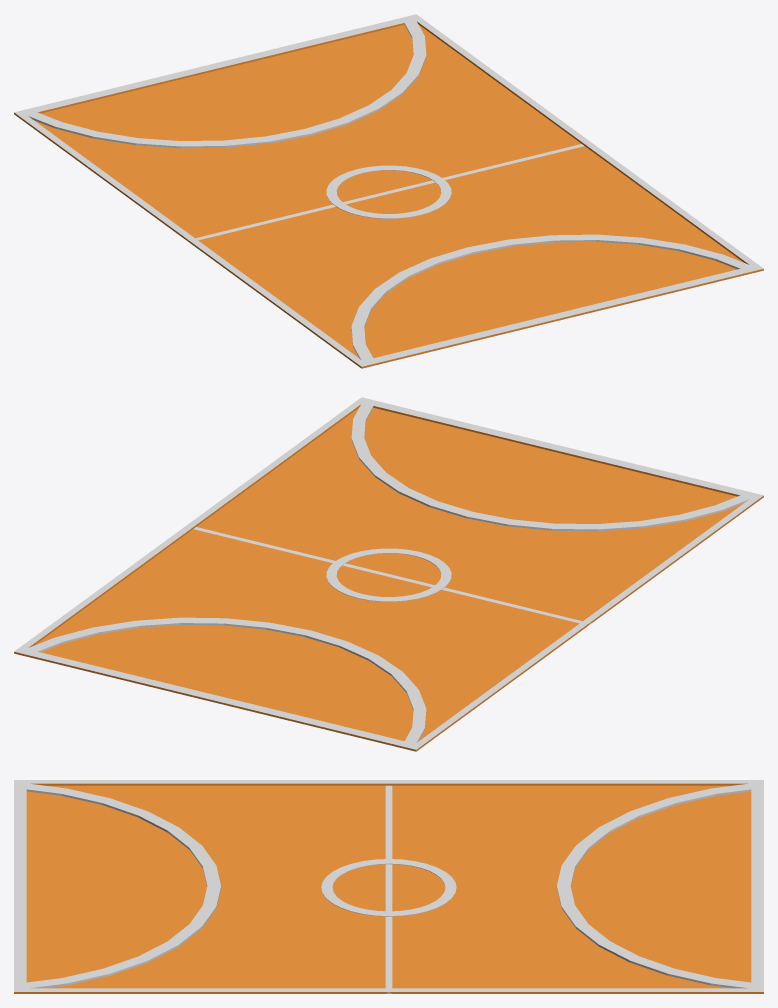
File: Field Lines.fbx
The picture shows the model from 3 angles, top to bottom: view 1: azimuth 30°, elevation 25°; view 2: azimuth 150°, elevation 25°; view 3: azimuth 270°, elevation 25°; orthographic projection. The views are drawn at different scales.
Parts seen in each view (by area): view 1: Field Lines, arc 1, Arc 2, Circle; view 2: Field Lines, arc 1, Arc 2, Circle; view 3: Field Lines, arc 1, Arc 2, Circle.
Boxes of the visible parts, x1=… form: Field Lines: x1=14, y1=14, x2=763, y2=368; arc 1: x1=351, y1=234, x2=755, y2=363; Arc 2: x1=27, y1=18, x2=426, y2=148; Circle: x1=326, y1=165, x2=451, y2=218; Field Lines: x1=14, y1=397, x2=763, y2=751; arc 1: x1=351, y1=400, x2=755, y2=531; Arc 2: x1=27, y1=617, x2=426, y2=745; Circle: x1=326, y1=548, x2=451, y2=601; Field Lines: x1=14, y1=780, x2=763, y2=993; arc 1: x1=18, y1=782, x2=220, y2=989; Arc 2: x1=557, y1=783, x2=751, y2=988; Circle: x1=321, y1=859, x2=456, y2=916.
Size of the model in its own units: 11.99 by 0.1276 by 17.94.
